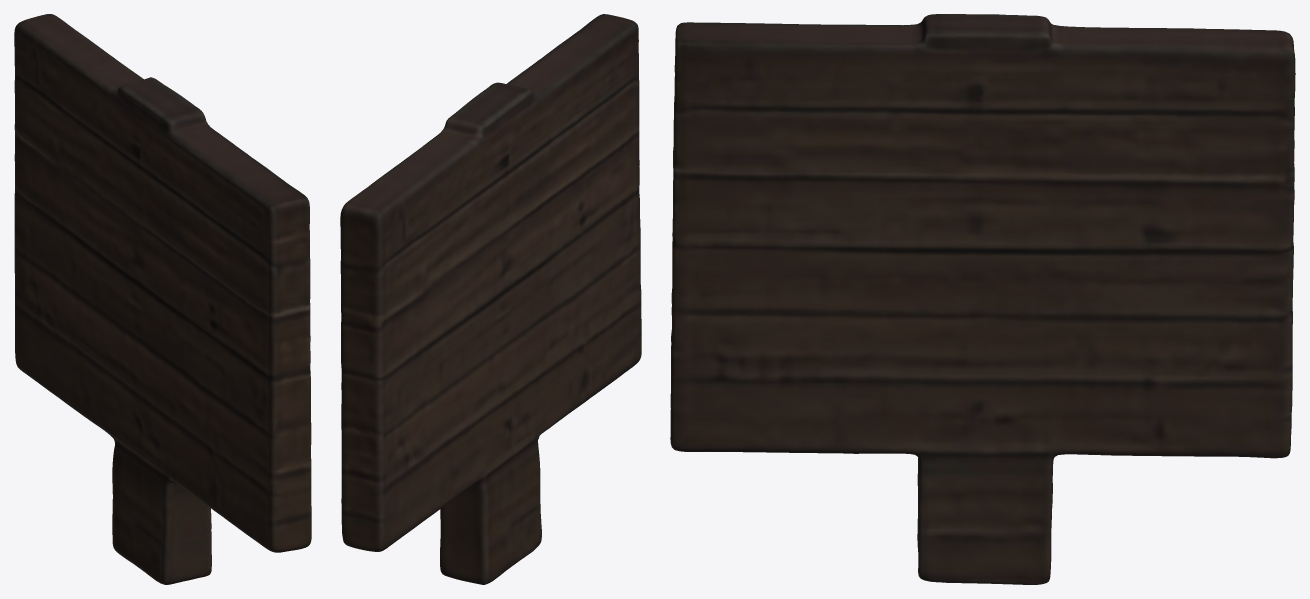
File: pancarte.glb
3 renders of one model, left to right at view 1: azimuth 30°, elevation 25°; view 2: azimuth 150°, elevation 25°; view 3: azimuth 270°, elevation 25°, orthographic. The views are drawn at different scales.
Parts seen in each view (by area): view 1: world; view 2: world; view 3: world.
Boxes of the visible parts, x1,y1,x2,y2 form: world: (14, 14, 311, 584); world: (340, 14, 641, 584); world: (670, 14, 1295, 584).
Size of the model in its own units: 0.0509 by 0.4495 by 0.4634.
Materials: 1 (1 with a texture image).
